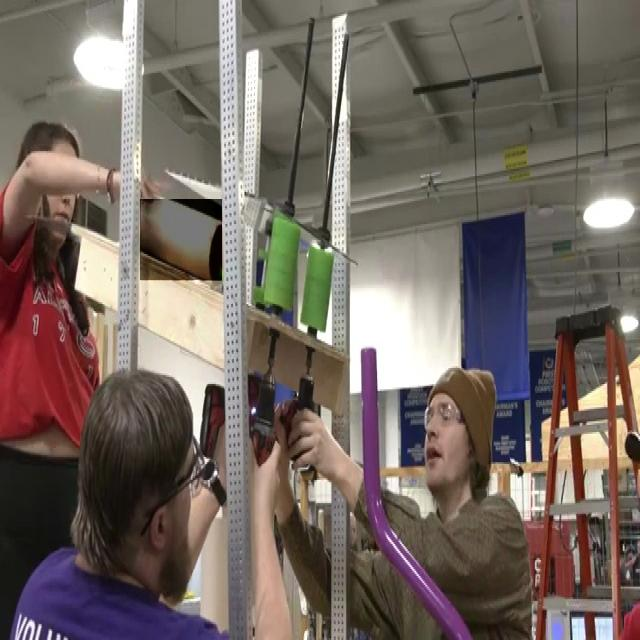Coral: (140, 200, 222, 282)
